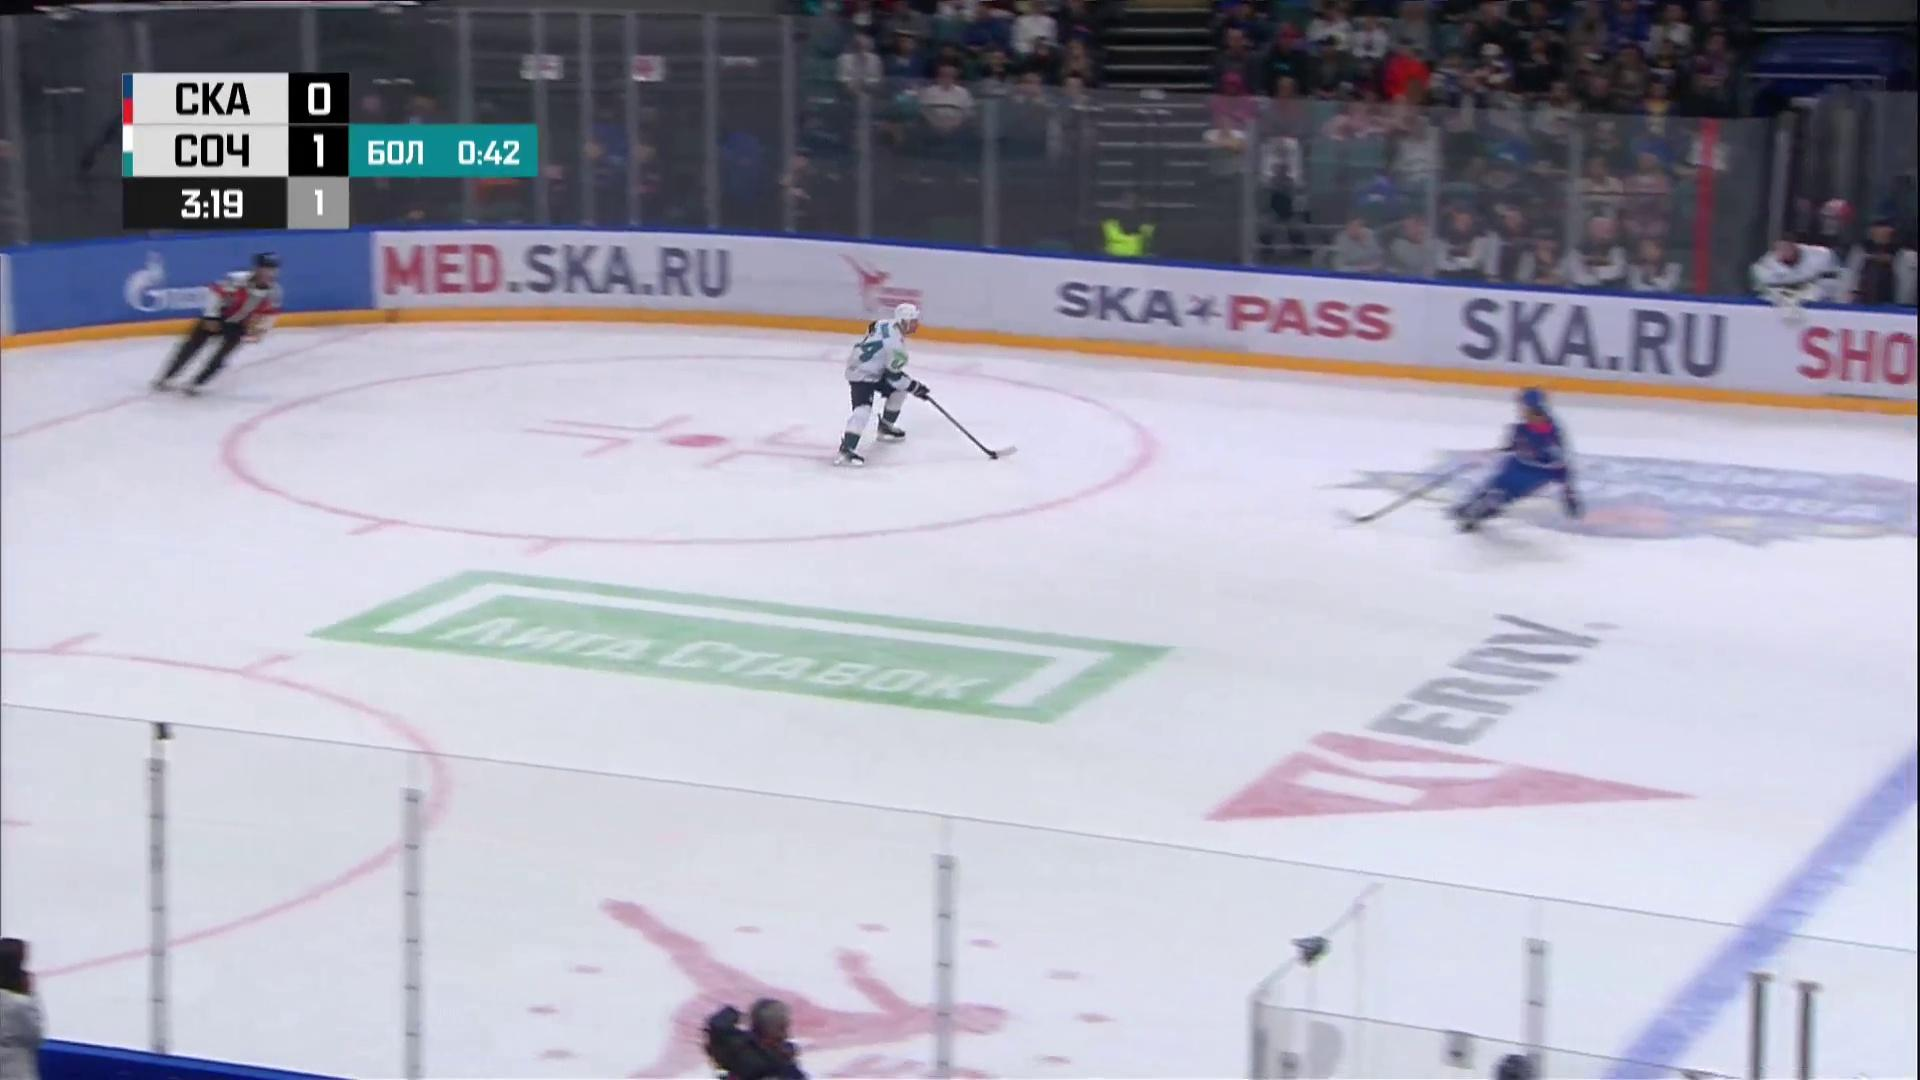ball: (989, 455, 1000, 460)
